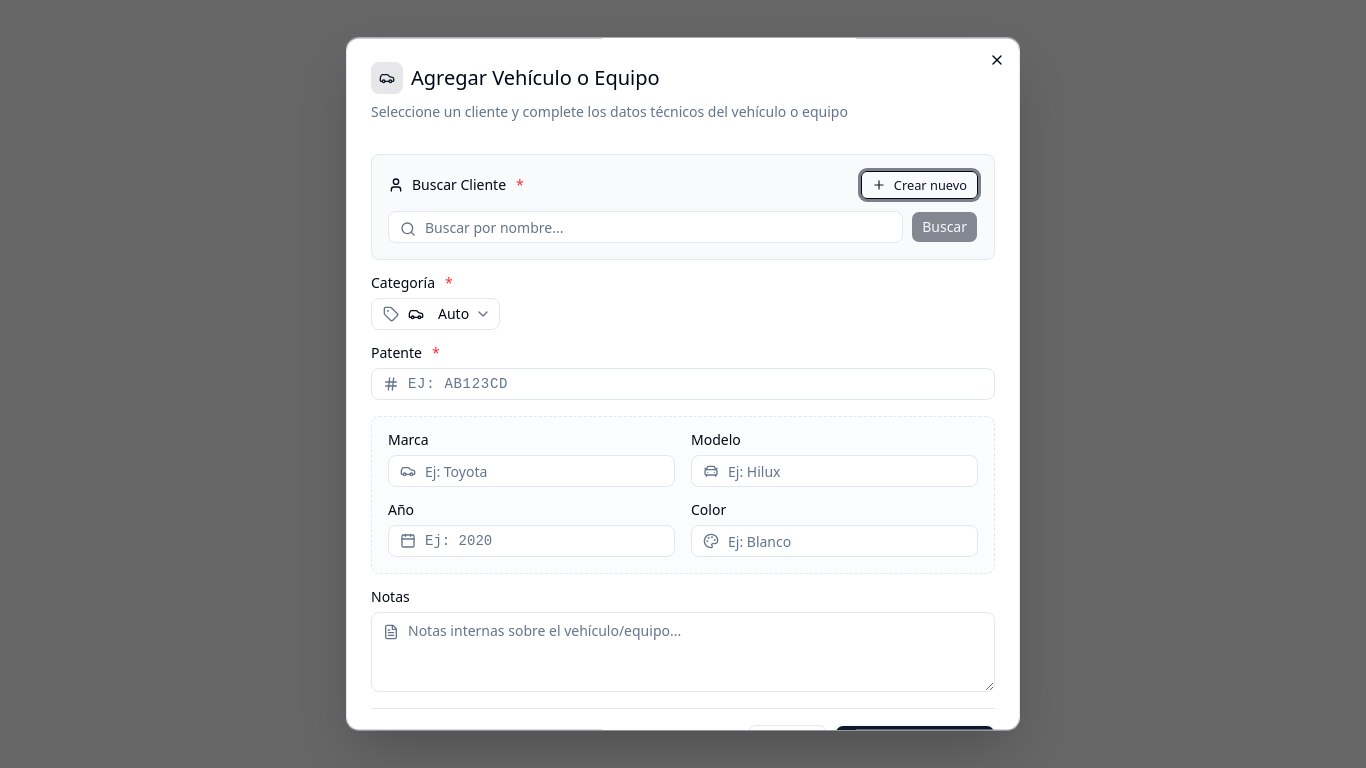
Test: VehicleDialog - Inline Customer Creation with Argentine Phone Validation › should block inline customer creation if name is missing or phone is invalid
Click the button "Crear nuevo": (919, 185) [861, 171, 978, 199]
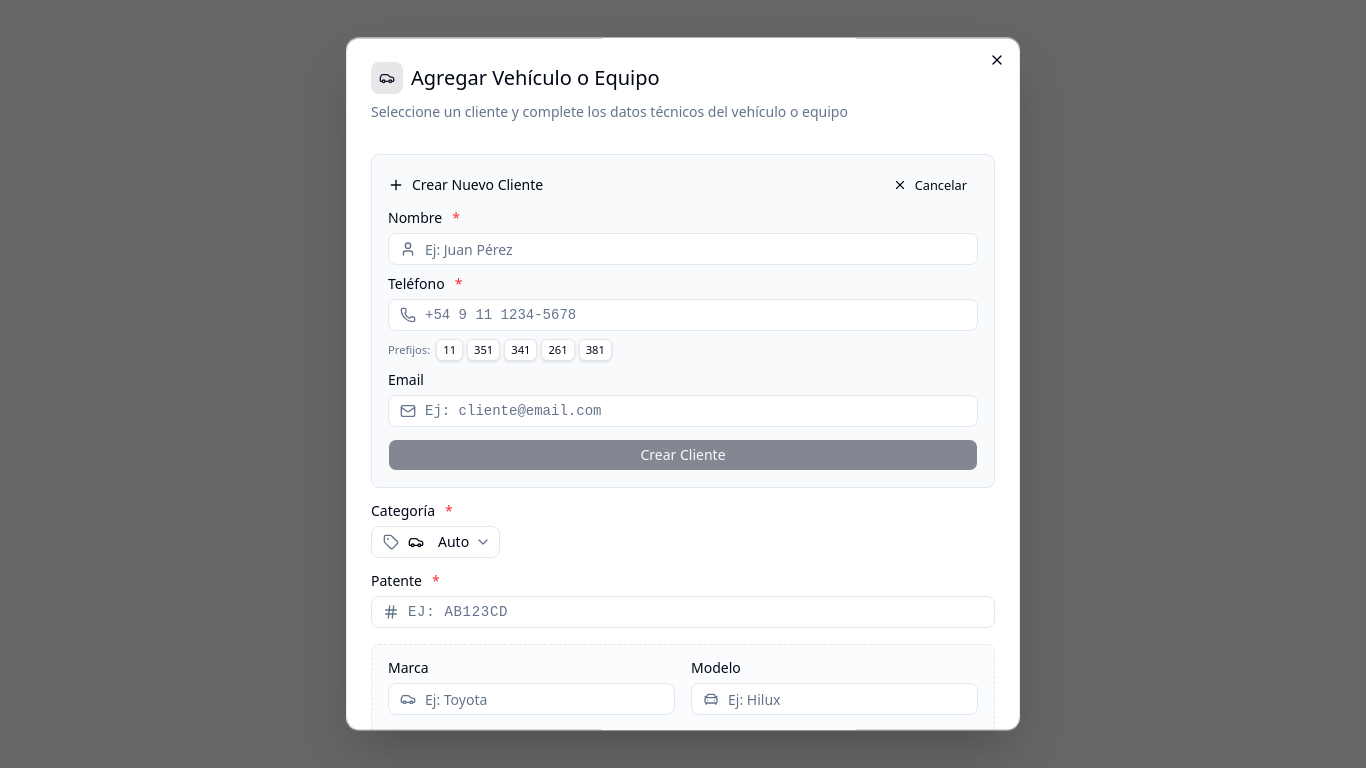
# Fill valid name, but invalid phone
In the field labelled "Nombre *": (683, 249) [388, 233, 978, 265], type "Juan Pérez"
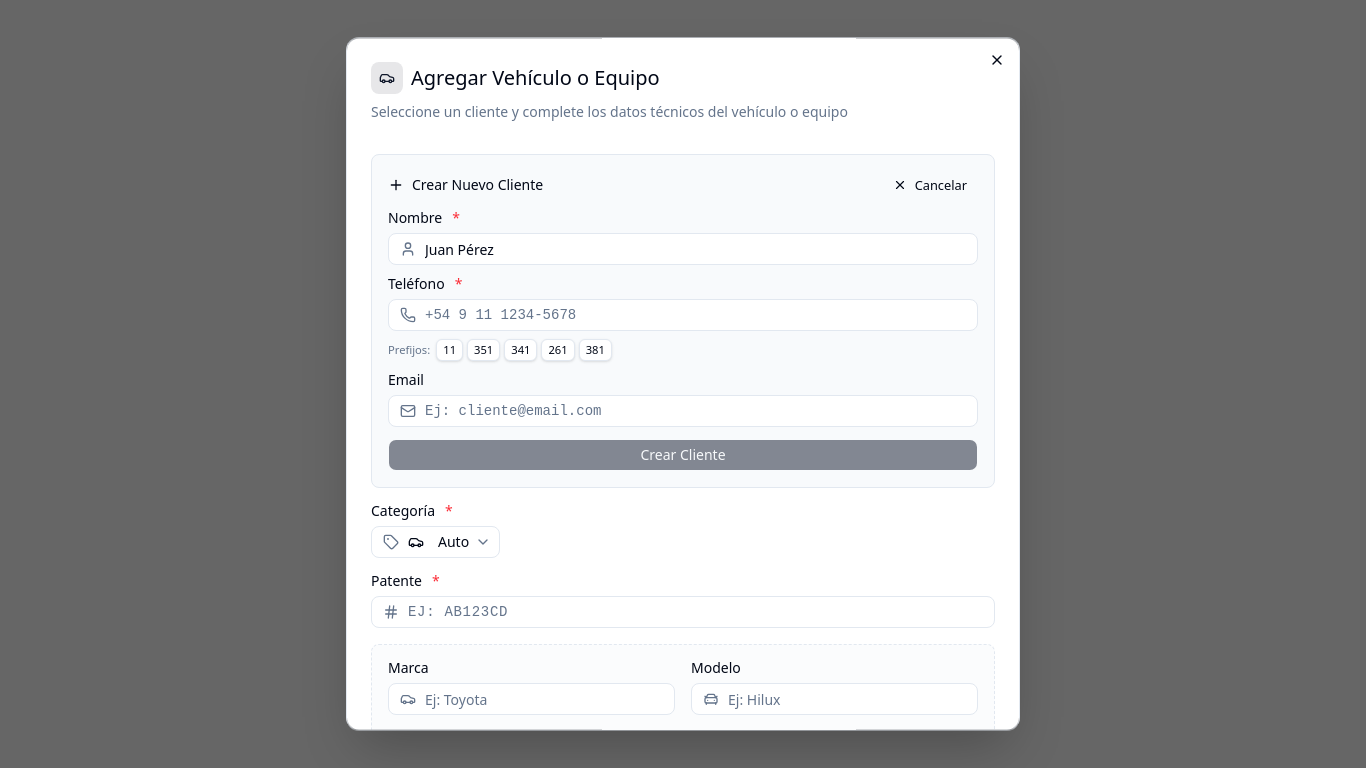
In the field labelled "Teléfono *": (683, 315) [388, 299, 978, 331], type "111"
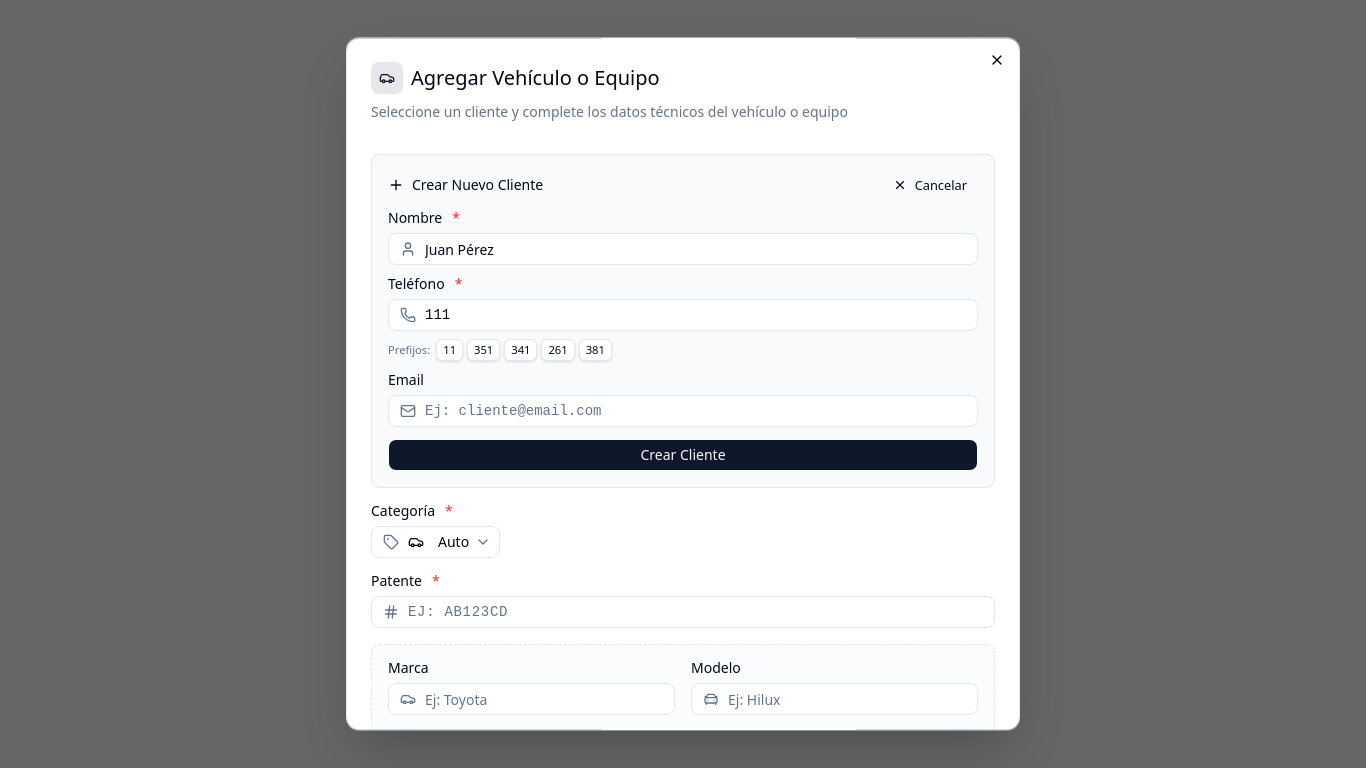
Click the button "Crear Cliente": (683, 455) [388, 439, 978, 471]
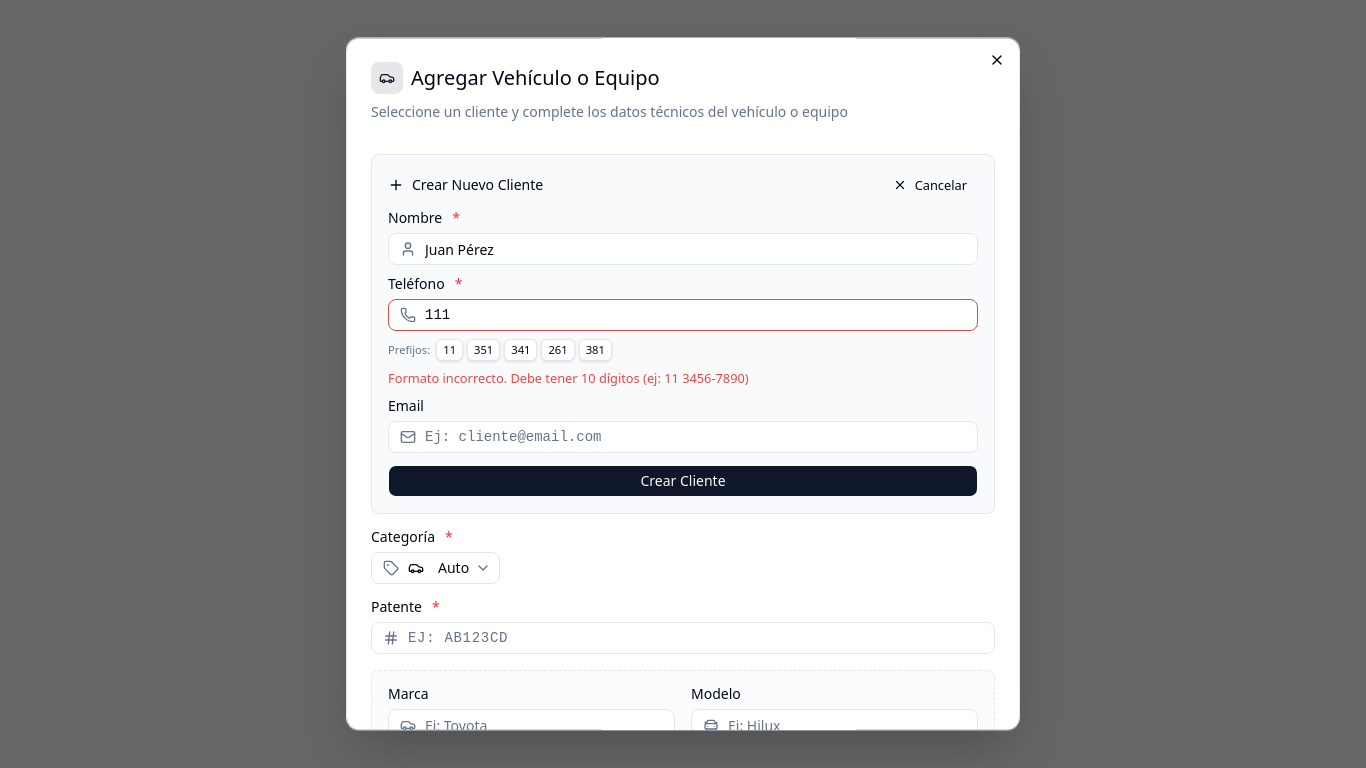
Result: the text "Formato incorrecto. Debe tener 10 dígitos (ej: 11 3456-7890)" is shown at [388, 369, 749, 387]
